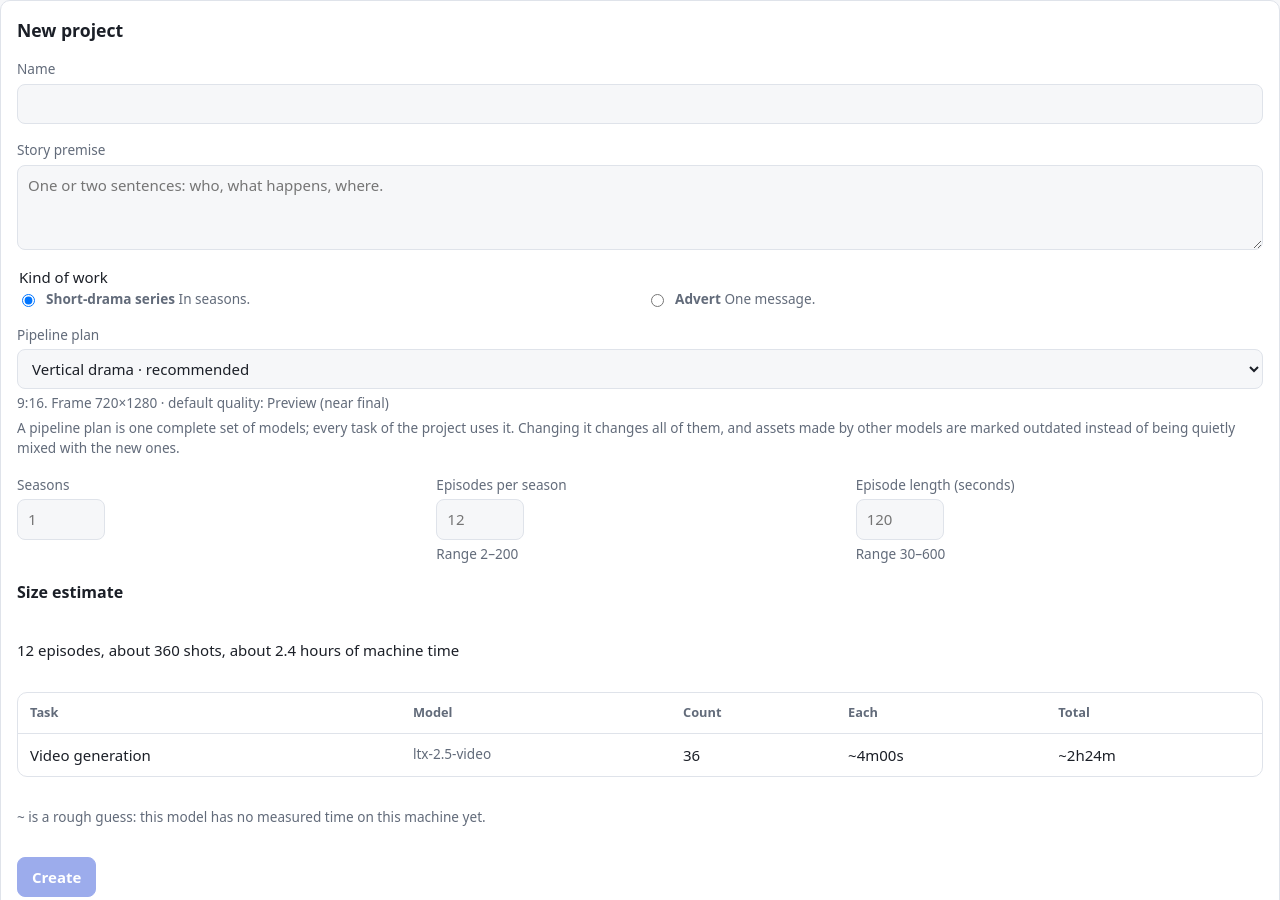
Scenario: NewProject › offers the kinds and plans of the server, asks only what the kind asks, and shows the estimate
Check: the text "Short-drama series" is shown, box [46,289,175,308]
Check: the number field labelled "Seasons" is shown, box [17,499,105,540]
Click the radio button labelled "Advert One message.": (658, 300) [651,294,664,307]
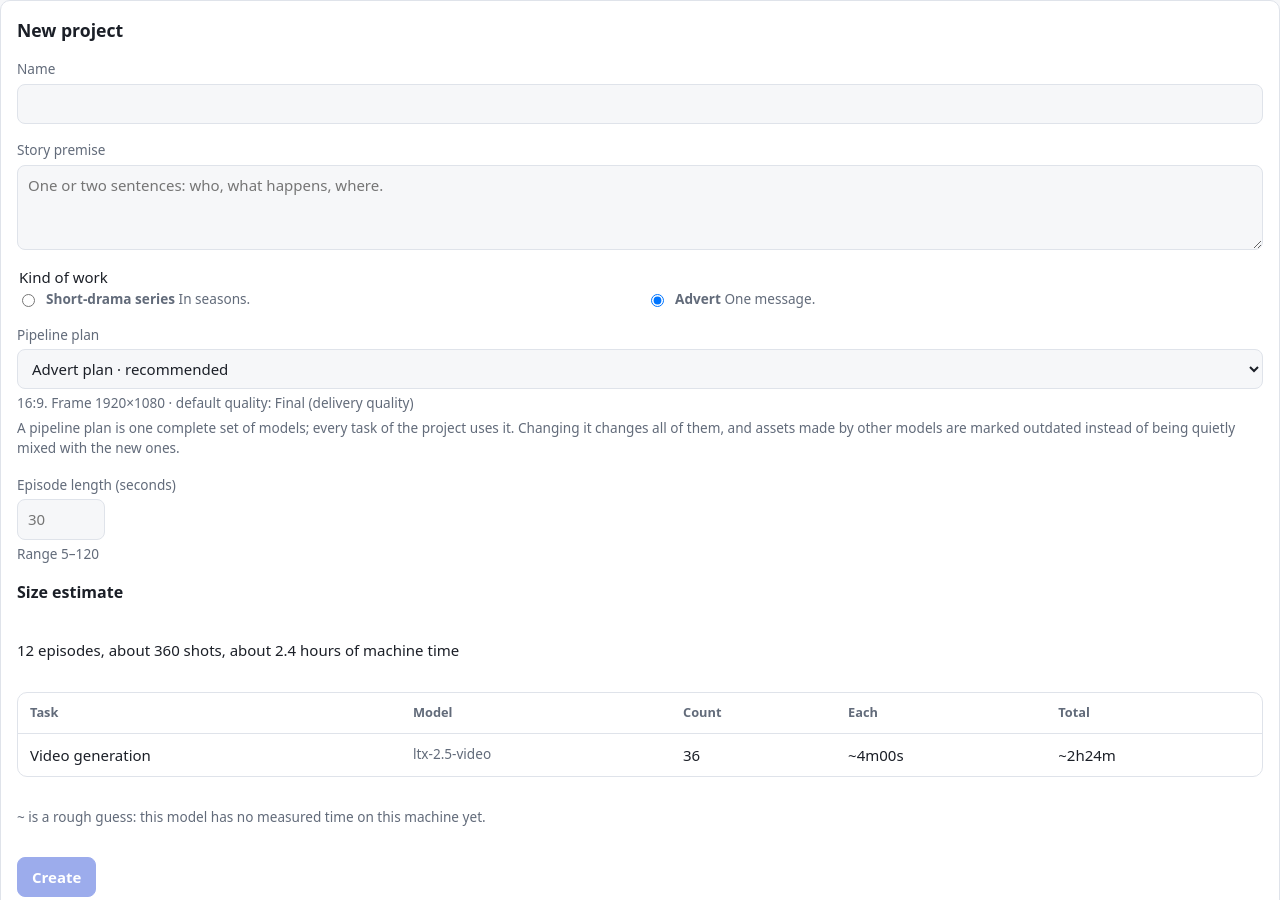
Check: the dropdown shows "Advert plan · recommended", box [17,350,1263,390]
